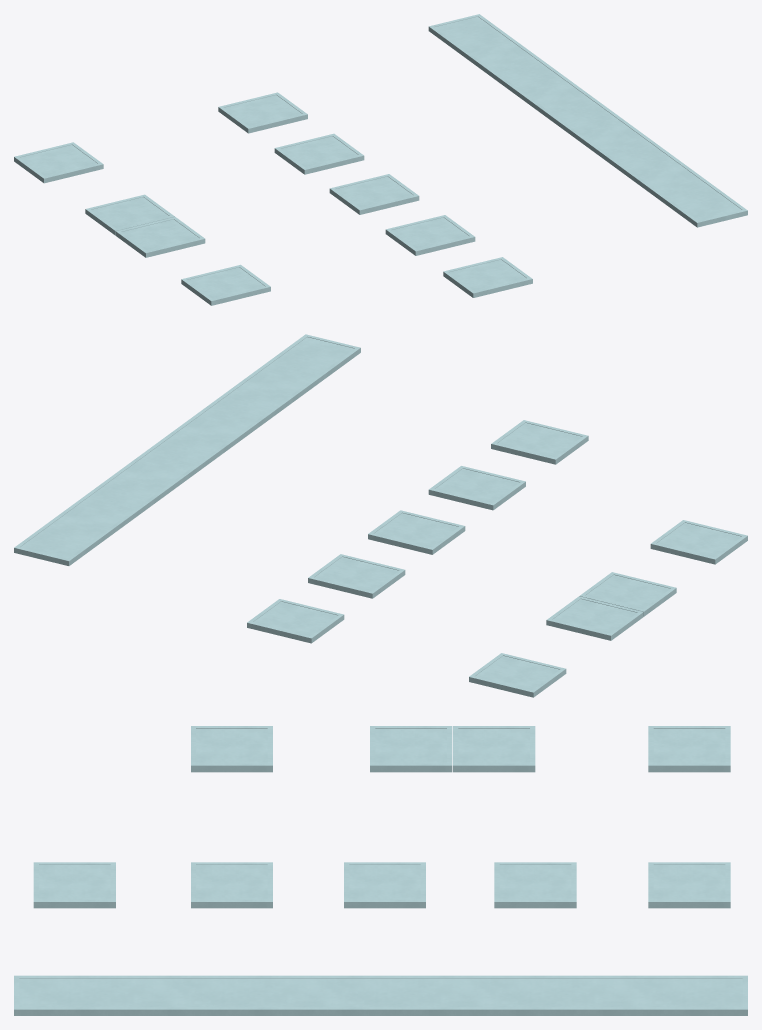
File: resto_ni_teo_14.obj
3 views of the same model, one above another, from view 1: azimuth 30°, elevation 25°; view 2: azimuth 150°, elevation 25°; view 3: azimuth 270°, elevation 25° (orthographic). The views are drawn at different scales.
Size of the model in its own units: 10.39 by 0.5804 by 10.24.
